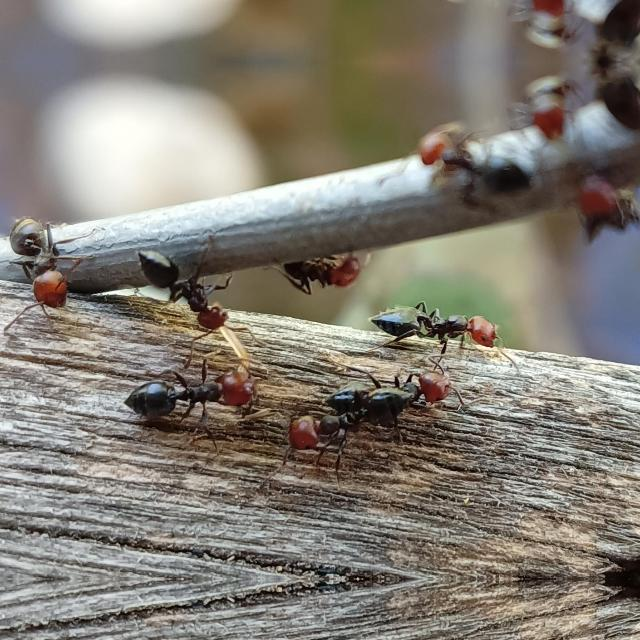Crematogaster: (284, 375, 430, 459), (120, 358, 260, 432), (128, 256, 240, 346), (373, 290, 503, 360), (3, 205, 79, 319), (555, 152, 639, 250), (414, 133, 530, 197), (331, 355, 471, 405), (271, 240, 367, 298), (509, 66, 578, 144), (509, 0, 578, 56)
